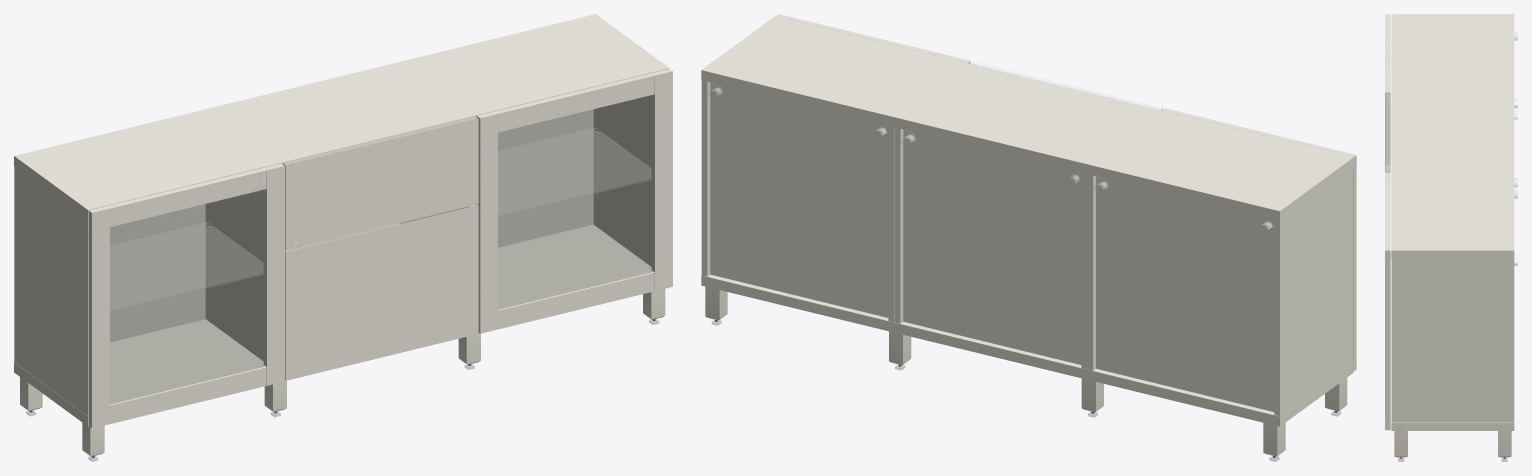
3 renders of one model, left to right at view 1: azimuth 30°, elevation 25°; view 2: azimuth 150°, elevation 25°; view 3: azimuth 270°, elevation 25°, orthographic. The views are drawn at different scales.
Parts seen in each view (by area): view 1: Mesh_9, Mesh_6, Mesh_2; view 2: Mesh_9, Mesh_0; view 3: Mesh_9, Mesh_7, Mesh_0.
Boxes of the visible parts, x1,y1,x2,y2 form: Mesh_9: (14, 14, 672, 457); Mesh_6: (110, 95, 653, 404); Mesh_2: (110, 127, 651, 311); Mesh_9: (701, 14, 1356, 457); Mesh_0: (707, 82, 1274, 233); Mesh_9: (1385, 14, 1514, 458); Mesh_7: (1386, 93, 1390, 171); Mesh_0: (1514, 32, 1517, 265).
Size of the model in its own units: 1.8 by 0.7591 by 0.427.
Materials: 2 (2 with a texture image).
